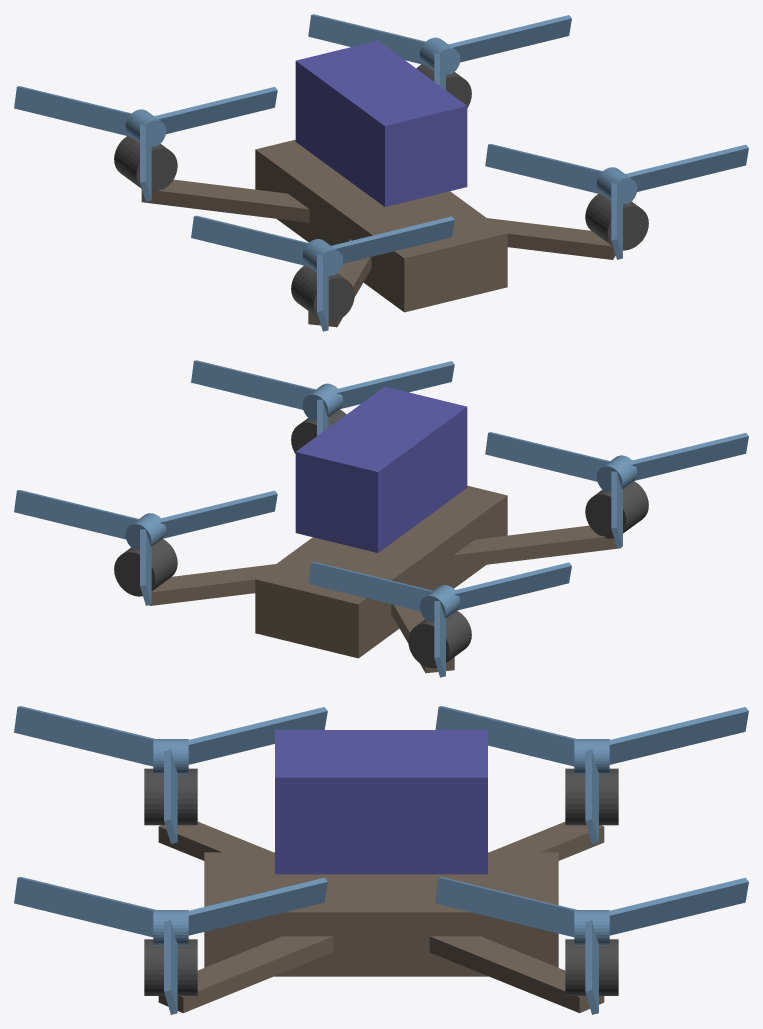
The model's file is Five33 Switchback.glb.
3 views of the same model, one above another, from view 1: azimuth 30°, elevation 25°; view 2: azimuth 150°, elevation 25°; view 3: azimuth 270°, elevation 25° (orthographic). The views are drawn at different scales.
Parts seen in each view (by area): view 1: battery, frame_body, prop_3, prop_2, prop_0, prop_1, arm_3, arm_0, motor_2, motor_3, motor_0, arm_2 (+1 smaller); view 2: battery, frame_body, prop_1, prop_2, prop_3, prop_0, arm_2, arm_1, motor_1, motor_3, motor_2, arm_3 (+1 smaller); view 3: battery, frame_body, prop_0, prop_1, prop_2, prop_3, arm_1, arm_0, motor_2, motor_3, motor_0, motor_1 (+2 smaller).
Part boxes in pixels (x1=…): battery: x1=295, y1=40, x2=467, y2=206; frame_body: x1=255, y1=139, x2=507, y2=312; prop_3: x1=14, y1=86, x2=277, y2=201; prop_2: x1=191, y1=215, x2=454, y2=331; prop_0: x1=485, y1=144, x2=748, y2=259; prop_1: x1=308, y1=14, x2=571, y2=89; arm_3: x1=141, y1=179, x2=309, y2=222; arm_0: x1=487, y1=218, x2=615, y2=259; motor_2: x1=291, y1=265, x2=354, y2=322; motor_3: x1=114, y1=136, x2=177, y2=192; motor_0: x1=585, y1=194, x2=648, y2=250; arm_2: x1=308, y1=239, x2=371, y2=327; battery: x1=295, y1=386, x2=467, y2=552; frame_body: x1=255, y1=485, x2=507, y2=658; prop_1: x1=14, y1=490, x2=277, y2=605; prop_2: x1=485, y1=432, x2=748, y2=547; prop_3: x1=308, y1=561, x2=571, y2=677; prop_0: x1=191, y1=360, x2=454, y2=435; arm_2: x1=453, y1=525, x2=621, y2=568; arm_1: x1=149, y1=564, x2=275, y2=605; motor_1: x1=114, y1=539, x2=177, y2=596; motor_3: x1=408, y1=610, x2=471, y2=668; motor_2: x1=585, y1=481, x2=648, y2=538; arm_3: x1=391, y1=585, x2=454, y2=673; battery: x1=275, y1=730, x2=487, y2=874; frame_body: x1=204, y1=852, x2=558, y2=976; prop_0: x1=14, y1=877, x2=327, y2=1014; prop_1: x1=435, y1=877, x2=748, y2=1014; prop_2: x1=14, y1=706, x2=327, y2=843; prop_3: x1=435, y1=706, x2=748, y2=843; arm_1: x1=429, y1=936, x2=604, y2=1013; arm_0: x1=158, y1=936, x2=333, y2=1013; motor_2: x1=144, y1=768, x2=197, y2=825; motor_3: x1=565, y1=768, x2=618, y2=825; motor_0: x1=144, y1=939, x2=197, y2=995; motor_1: x1=565, y1=939, x2=618, y2=995.
Size of the model in its own units: 0.1907 by 0.06 by 0.2073.
